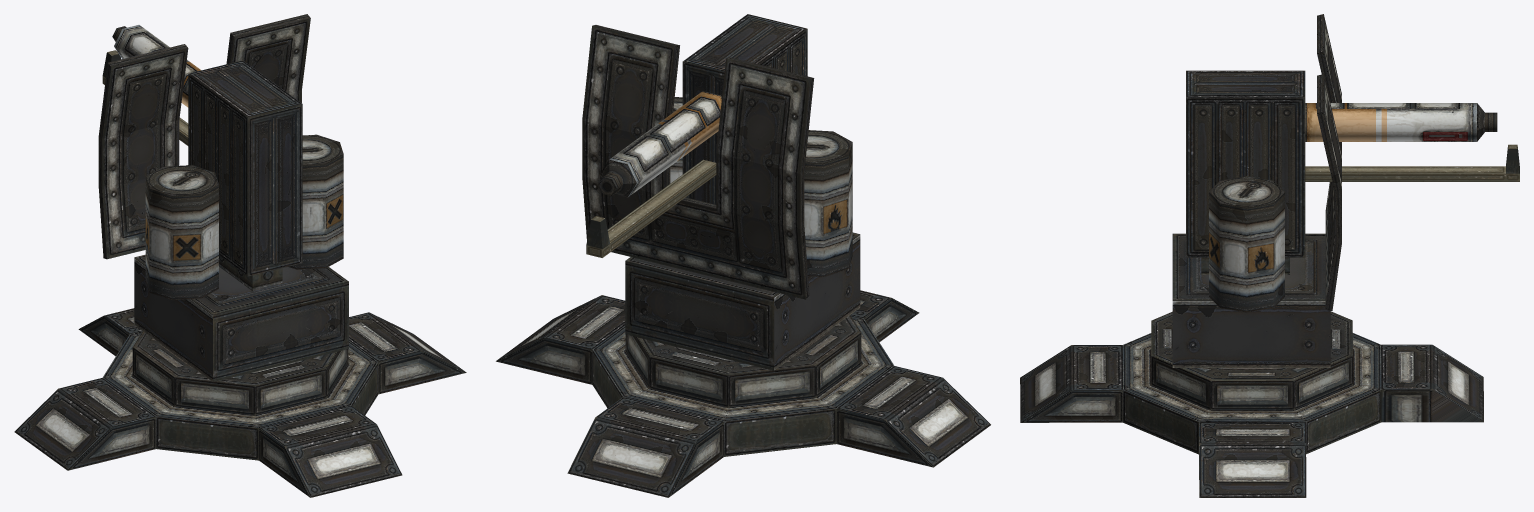
File: MOBILE_TURRET_PACK_1_FLAMETHROWER+BASE.FBX
3 renders of one model, left to right at view 1: azimuth 30°, elevation 25°; view 2: azimuth 150°, elevation 25°; view 3: azimuth 270°, elevation 25°, orthographic. The views are drawn at different scales.
Visible parts, largest first — view 1: Turret_Flamethrower, Turret_Base; view 2: Turret_Flamethrower, Turret_Base; view 3: Turret_Flamethrower, Turret_Base.
Part boxes in pixels (bbox=[...]): Turret_Flamethrower: bbox=[98, 14, 348, 381]; Turret_Base: bbox=[14, 308, 466, 497]; Turret_Flamethrower: bbox=[582, 14, 860, 370]; Turret_Base: bbox=[496, 290, 990, 497]; Turret_Flamethrower: bbox=[1172, 14, 1519, 367]; Turret_Base: bbox=[1020, 311, 1483, 497].
Bounding box in the file's own units: 74.52 × 59.99 × 80.28.
